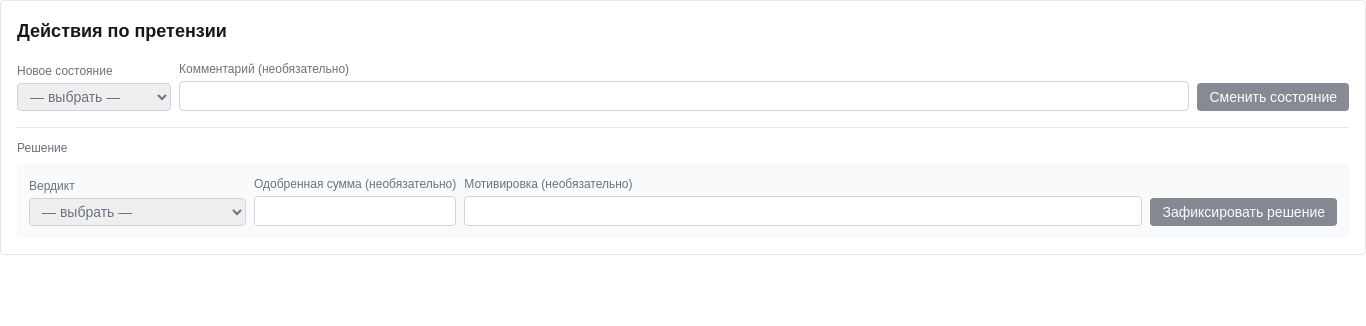
Scenario: ClaimActions — решение › ошибка action (409/422) показывается как title без detail
Select "Полное удовлетворение" in the dropdown labelled "Вердикт" at (138, 212), box [29,198,246,226]
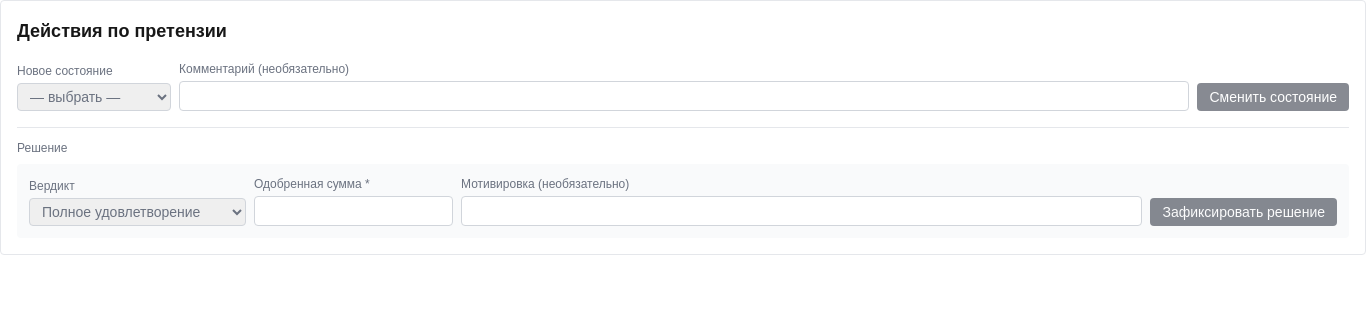
Type "1000" into the number field labelled "Одобренная сумма *" at (354, 211), box [254,196,453,226]
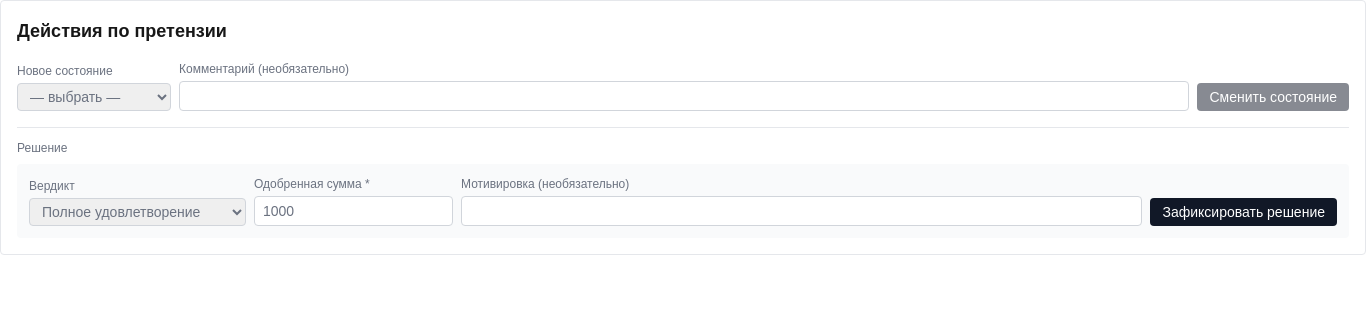
Click the button "Зафиксировать решение" at (1244, 212), box [1150,198,1337,226]
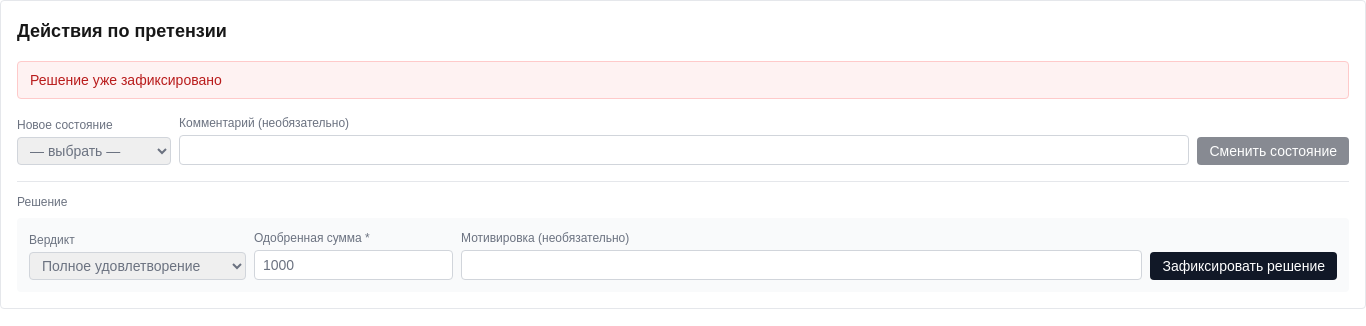
Check: the message reads "Решение уже зафиксировано", box [30,72,222,88]
